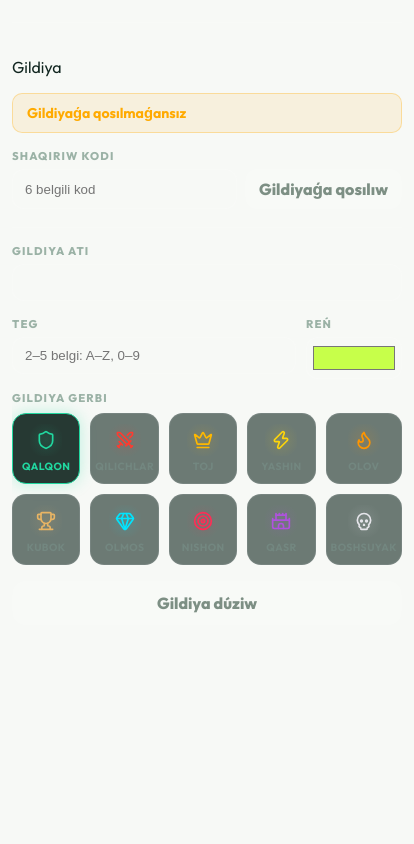
it: ClanSection without a clan › shows a refusal in Karakalpak
Type "K7M2QP" into the field labelled "Shaqırıw kodı". click: (124, 189)
box: [12,169,237,209]
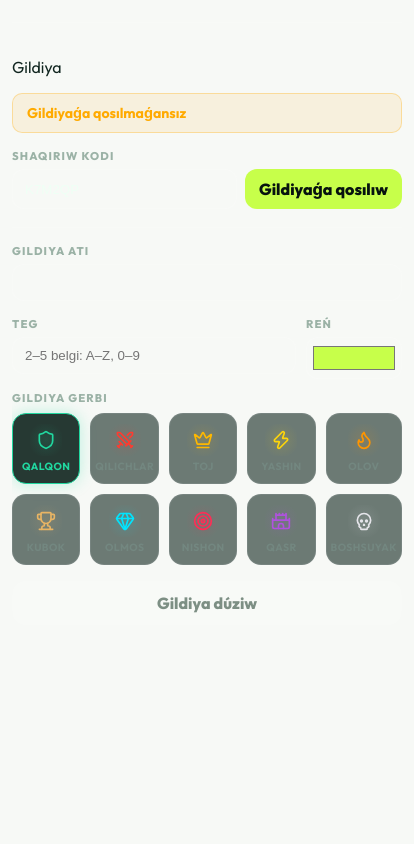
Click the button "Gildiyaǵa qosılıw". click: (324, 189)
box: [245,169,402,209]
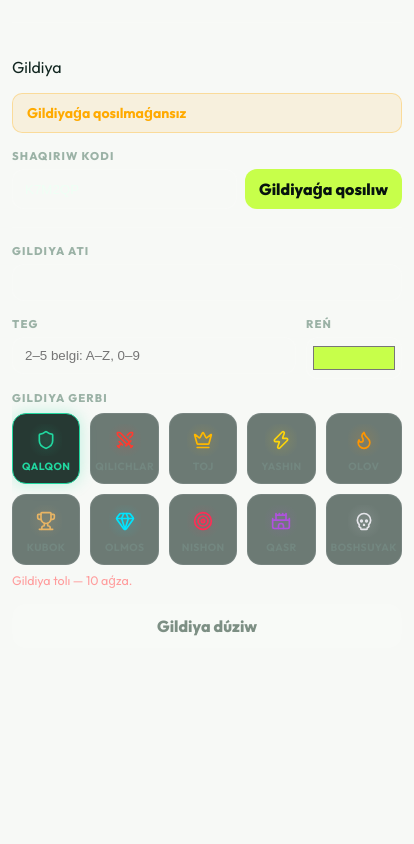
Now the text "Gildiya tolı — 10 aǵza." is shown, box [12,573,132,588]
